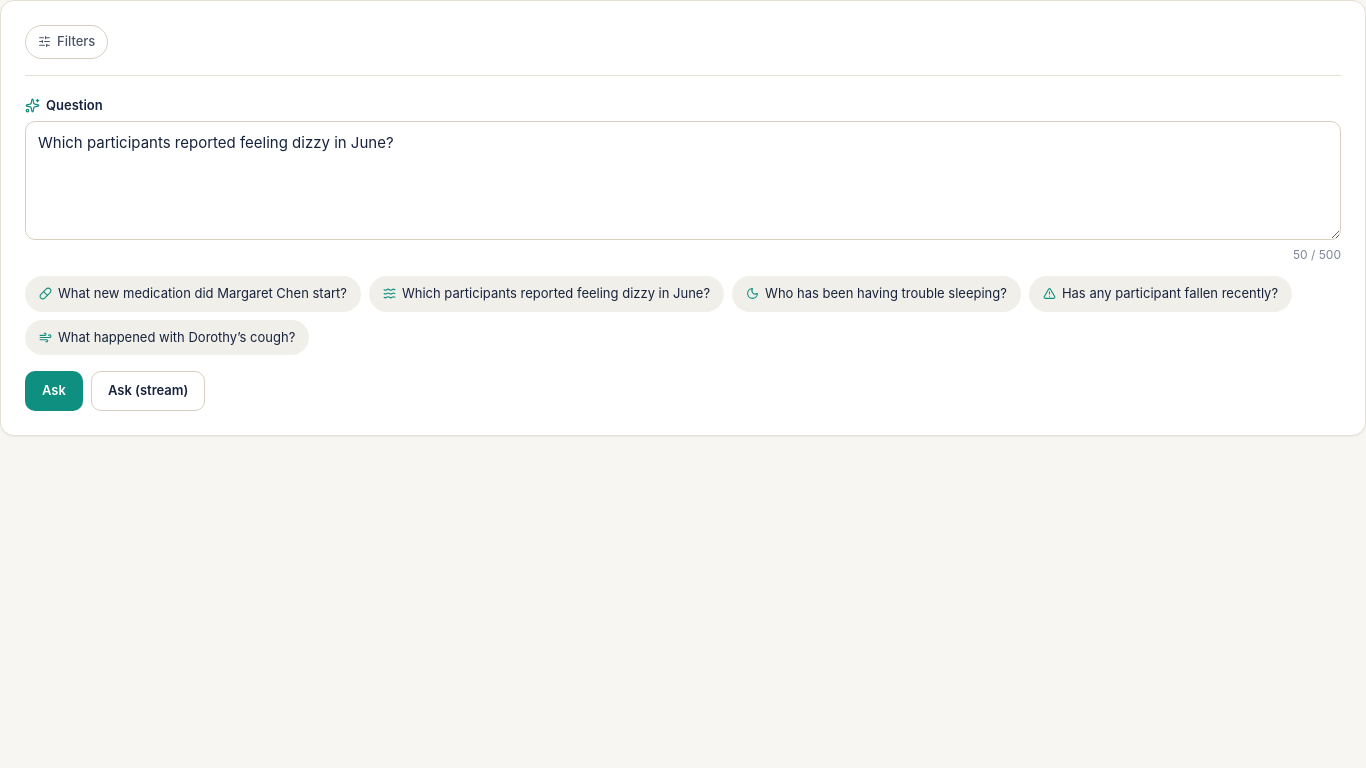
AskPage › submits thumbs-up feedback for the answer directly, with no modal
The image size is (1366, 768).
Click the button "Ask": (54, 391) [25,371,83,410]
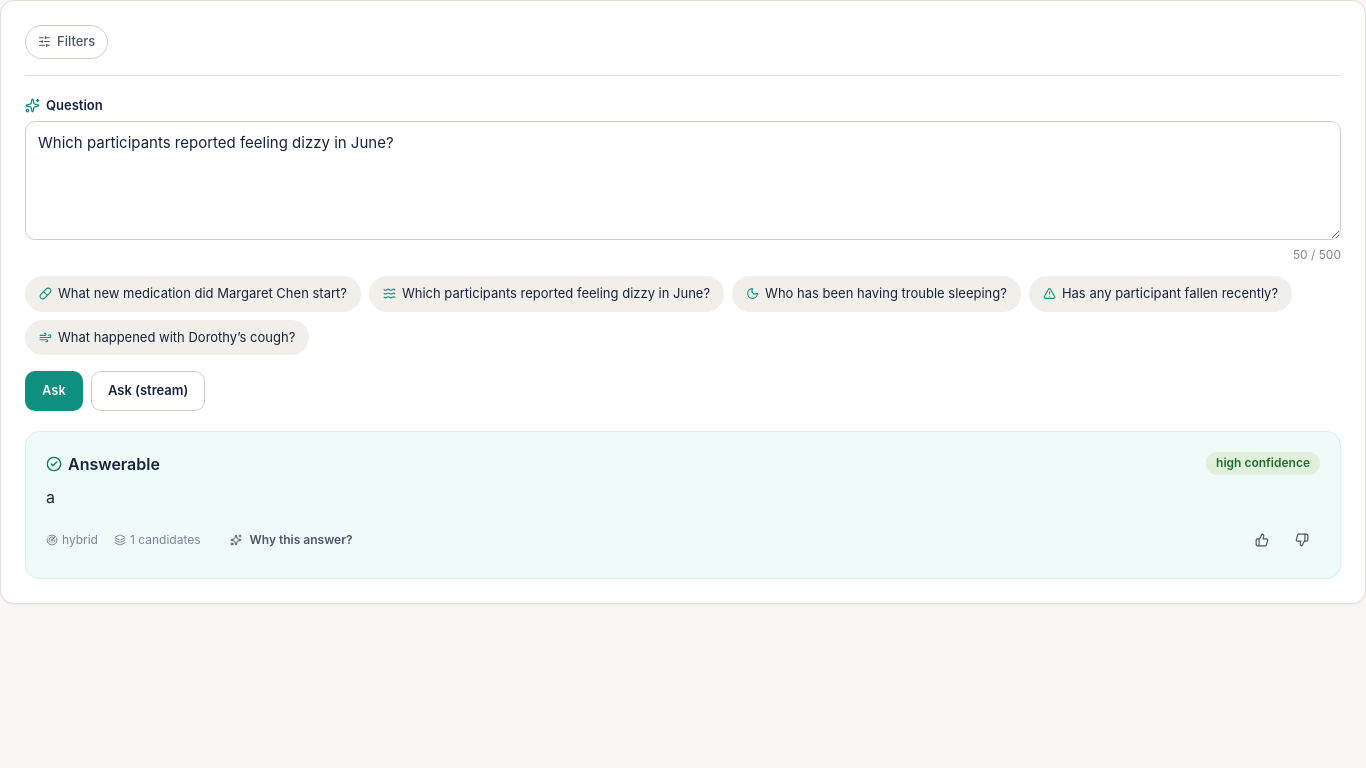
Click the button named "This answer was correct": (1262, 540) [1244,522,1280,558]
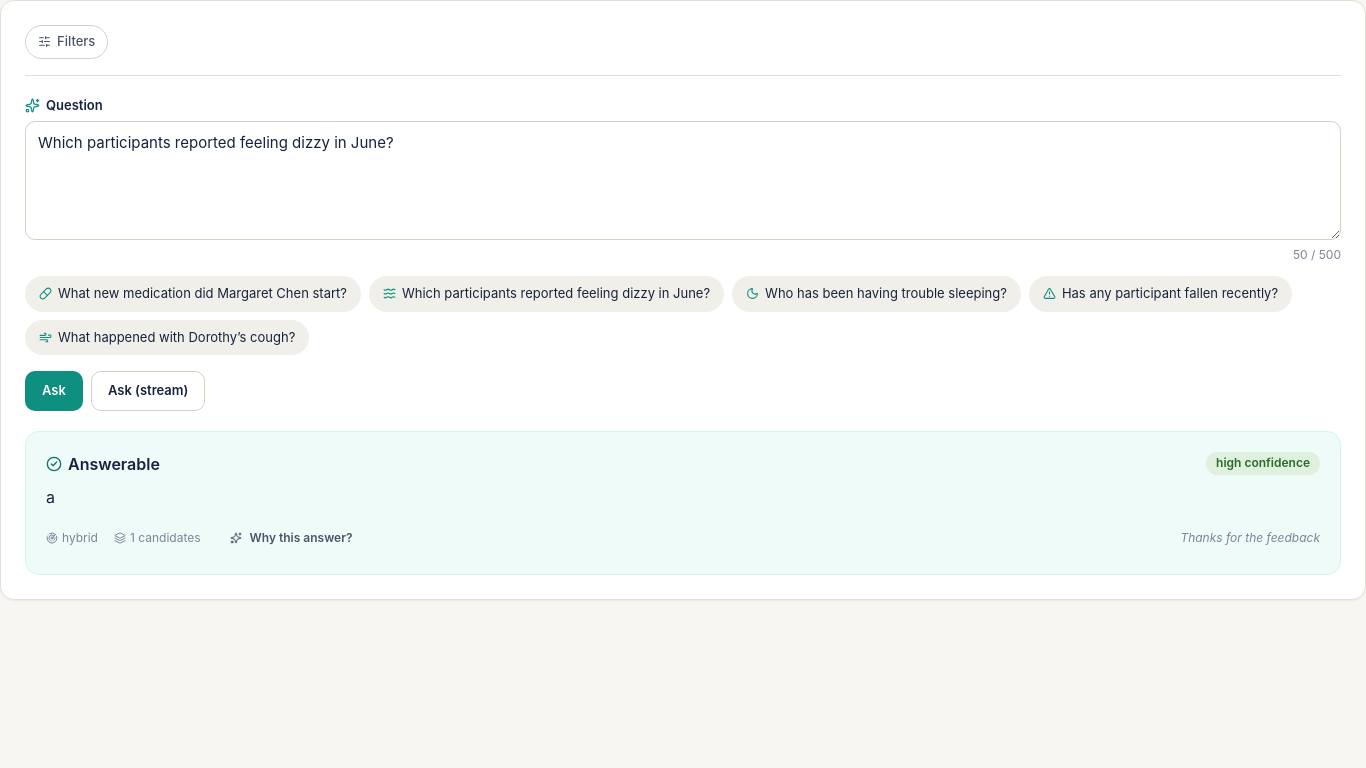
Now the text "Thanks for the feedback" is shown, box [1180,529,1320,547]
